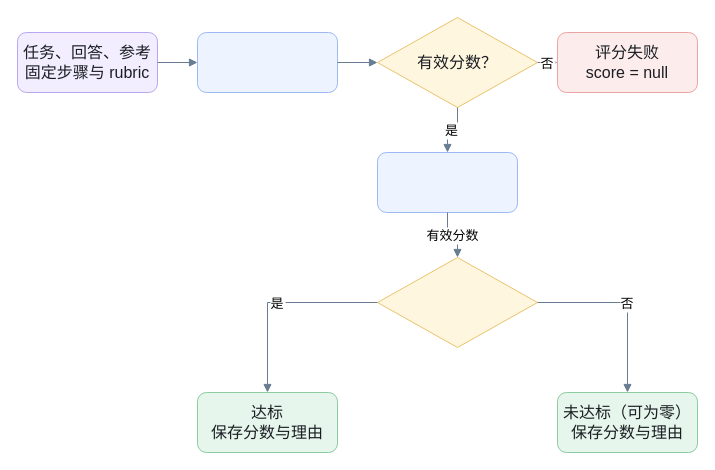
This 715x470 diagram has some shape labels left out. The shapes that lost their labels are listed below. From the top down, each one's centre as x and y in pixels, then its label:
point (267, 62): 模型裁决与归一化 原始分 ÷ 2
point (447, 182): 保留分数与理由 记录 status = ok
point (457, 302): 分数 ≥ 1？
